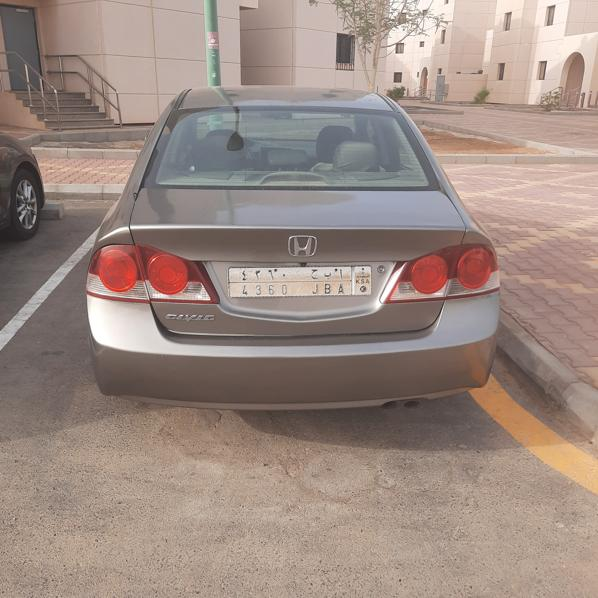numberplate: (228, 268, 372, 295)
